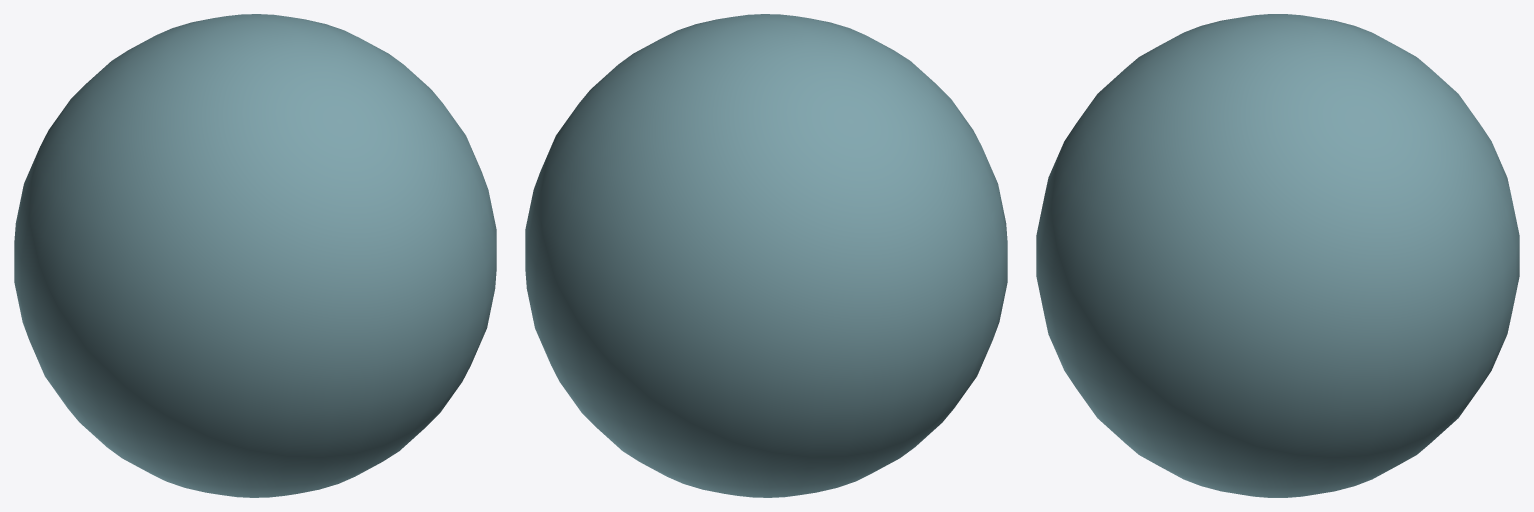
Rendered from ball.obj.
3 renders of one model, left to right at view 1: azimuth 30°, elevation 25°; view 2: azimuth 150°, elevation 25°; view 3: azimuth 270°, elevation 25°, orthographic.
Visible parts, largest first — view 1: sphere; view 2: sphere; view 3: sphere.
Boxes of the visible parts, <box> form: sphere: <box>14,14,496,497</box>; sphere: <box>525,14,1007,497</box>; sphere: <box>1036,14,1519,497</box>.
Bounding box in the file's own units: 0.8678 × 0.8752 × 0.8715.
